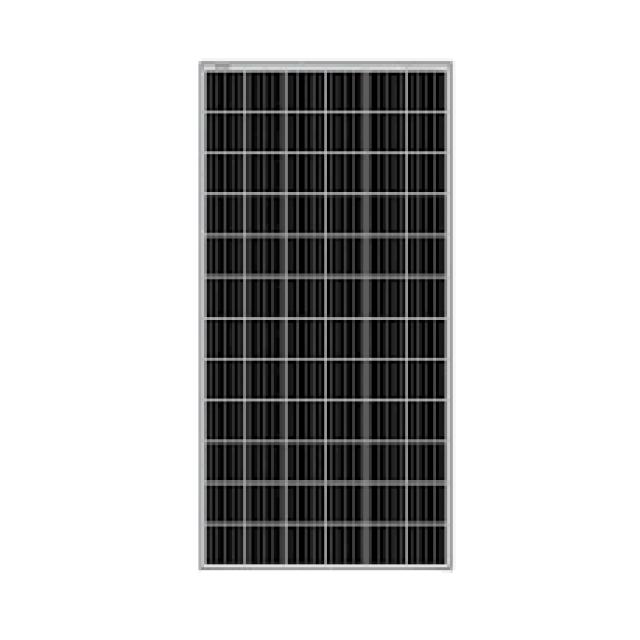no faulty: (199, 70, 447, 562)
